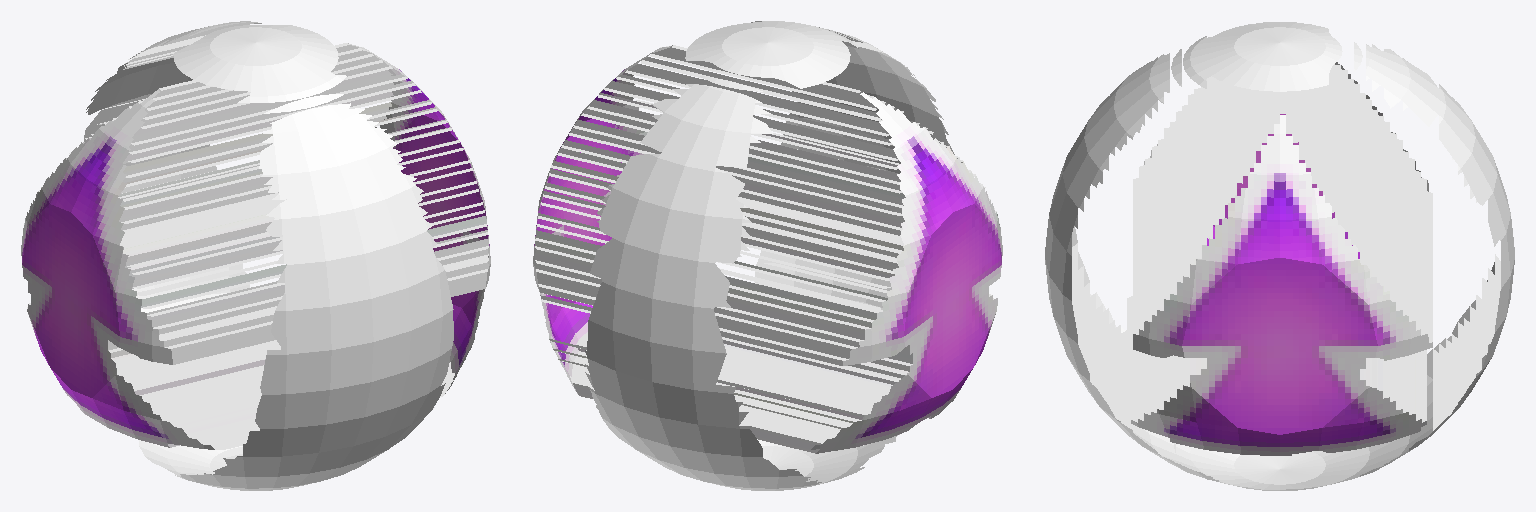
The picture shows the model from 3 angles: view 1: azimuth 30°, elevation 25°; view 2: azimuth 150°, elevation 25°; view 3: azimuth 270°, elevation 25°; orthographic projection.
Parts seen in each view (by area): view 1: Cube; view 2: Cube; view 3: Cube.
Boxes of the visible parts, x1,y1,x2,y2 form: Cube: [21, 21, 490, 490]; Cube: [533, 21, 1002, 490]; Cube: [1045, 22, 1514, 490].
Bounding box in the file's own units: 1.38 × 1.52 × 1.52.
1 materials, 1 textured.